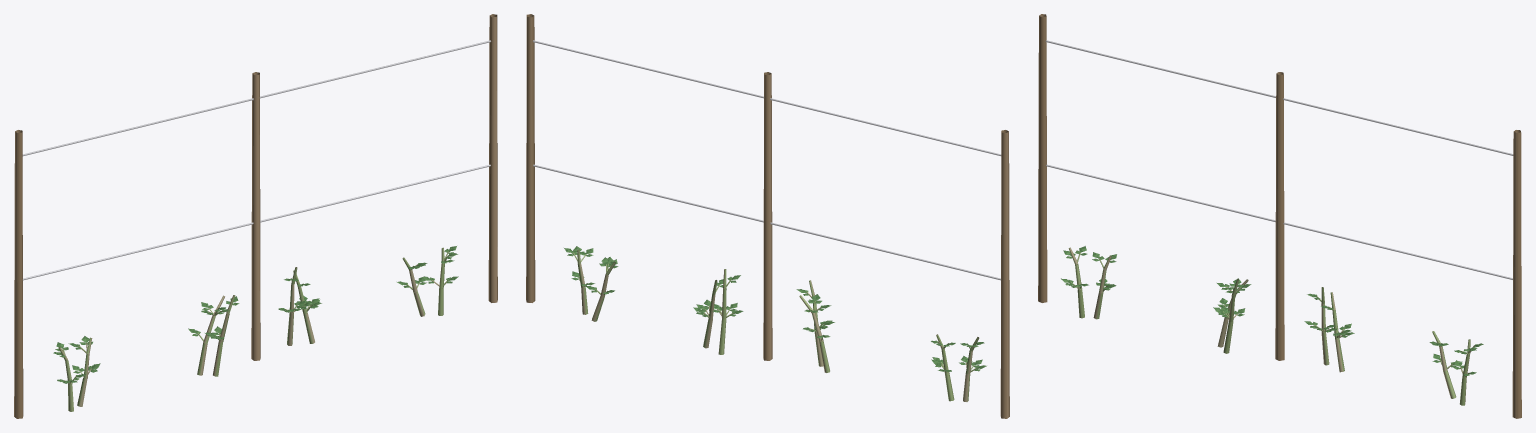
The model's file is framboise_jeune.glb.
3 views of the same model, side by side, from view 1: azimuth 30°, elevation 25°; view 2: azimuth 150°, elevation 25°; view 3: azimuth 330°, elevation 25° (orthographic).
Visible parts, largest first — view 1: Framboise_Piquets, Framboise_Cannes, Framboise_Fil, Framboise_Feuilles; view 2: Framboise_Piquets, Framboise_Cannes, Framboise_Fil, Framboise_Feuilles; view 3: Framboise_Piquets, Framboise_Cannes, Framboise_Fil, Framboise_Feuilles.
Part boxes in pixels (<box>): Framboise_Piquets: <box>14,14,497,418</box>; Framboise_Cannes: <box>58,247,448,411</box>; Framboise_Fil: <box>22,40,490,280</box>; Framboise_Feuilles: <box>53,246,458,383</box>; Framboise_Piquets: <box>526,14,1009,418</box>; Framboise_Cannes: <box>573,249,979,401</box>; Framboise_Fil: <box>533,40,1001,280</box>; Framboise_Feuilles: <box>564,246,986,371</box>; Framboise_Piquets: <box>1038,14,1521,418</box>; Framboise_Cannes: <box>1068,247,1474,405</box>; Framboise_Fil: <box>1045,40,1513,279</box>; Framboise_Feuilles: <box>1061,246,1483,375</box>.
Size of the model in its own units: 2.03 by 1.15 by 0.2054.
